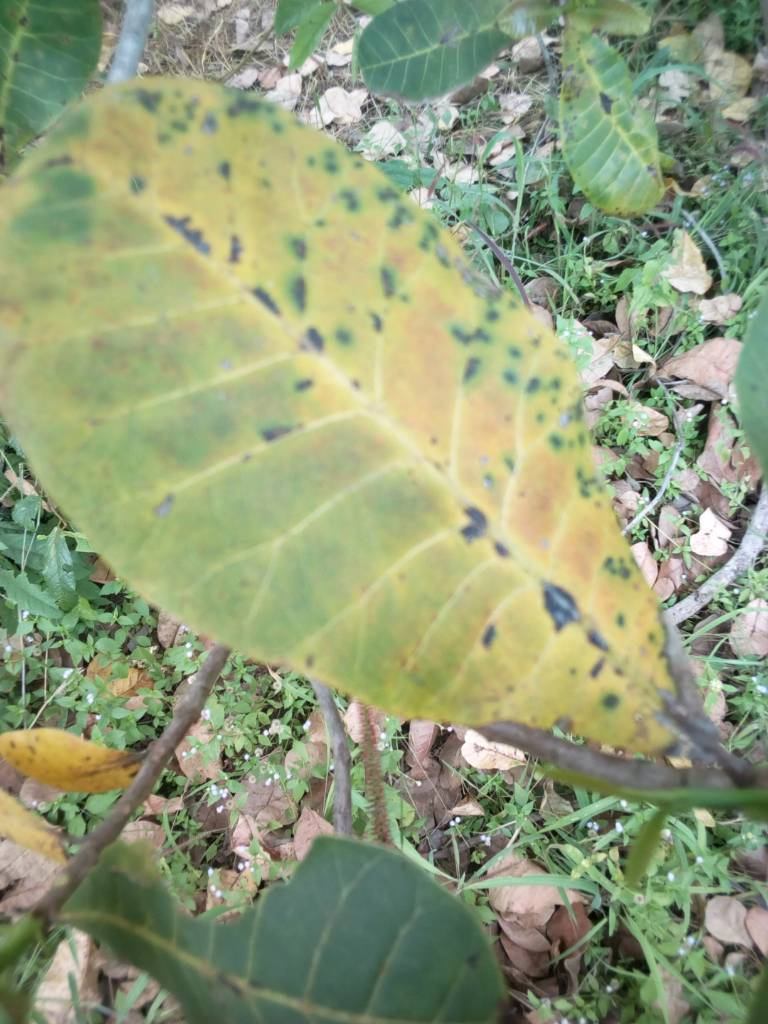Anthracnose: (5, 75, 685, 750)
